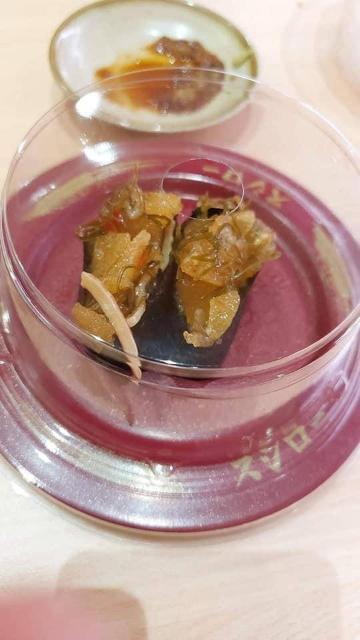janred: (0, 142, 360, 502)
